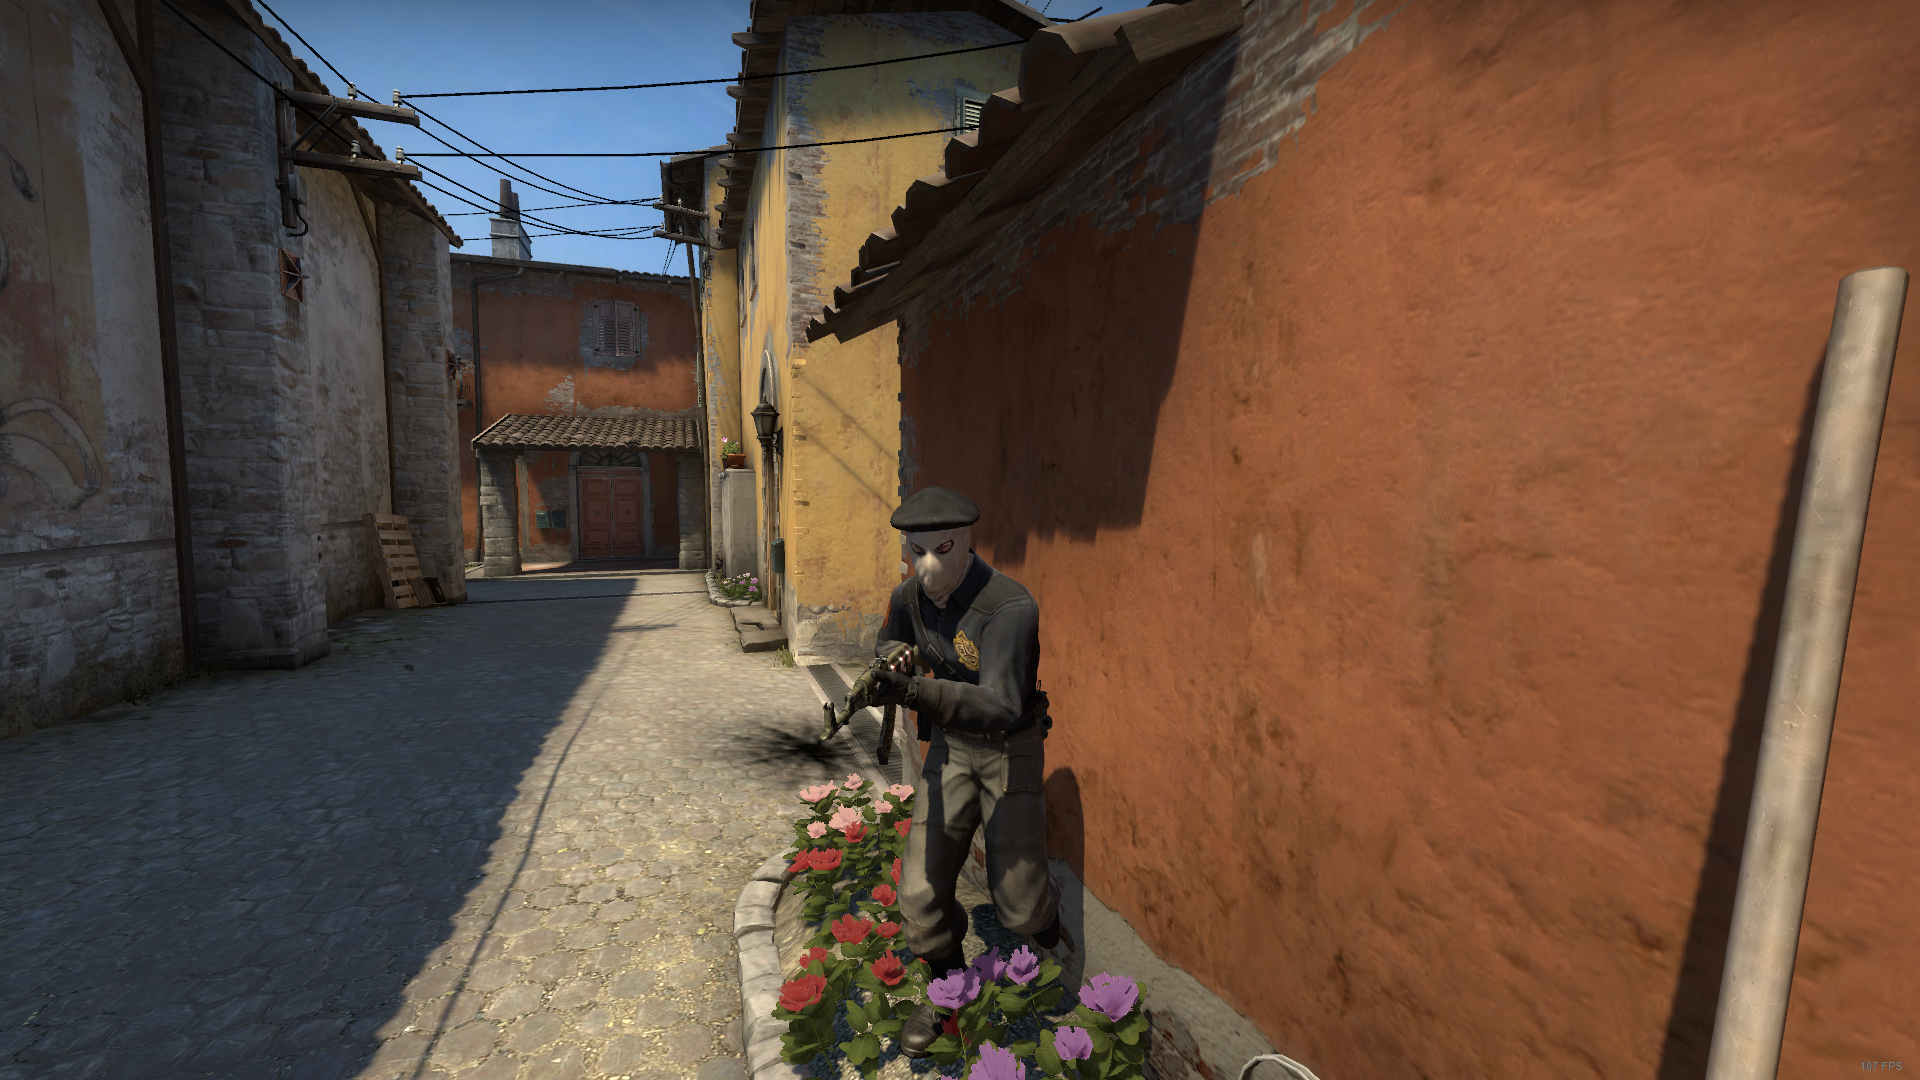t: (849, 487, 1069, 1004)
